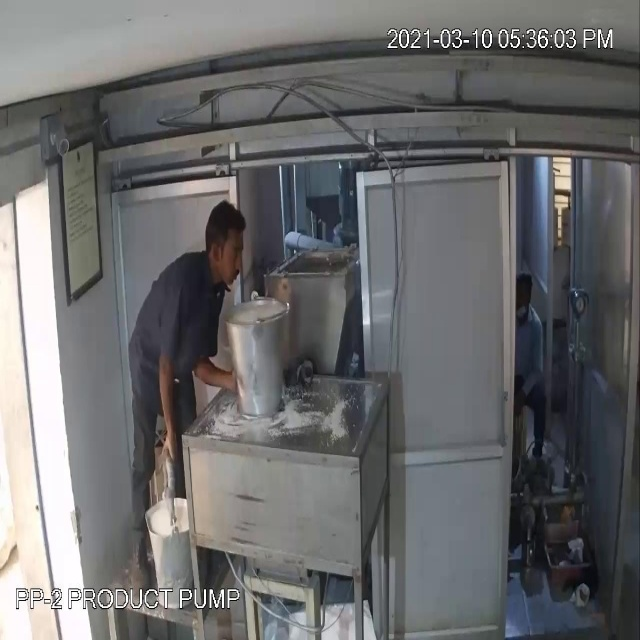Sin_guantes: (182, 341, 251, 420), (154, 326, 189, 478)
